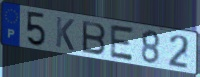2: (167, 34, 191, 70)
5: (25, 9, 47, 48)
8: (140, 29, 162, 65)
B: (81, 19, 107, 56)
E: (108, 23, 136, 63)
K: (55, 15, 76, 53)
